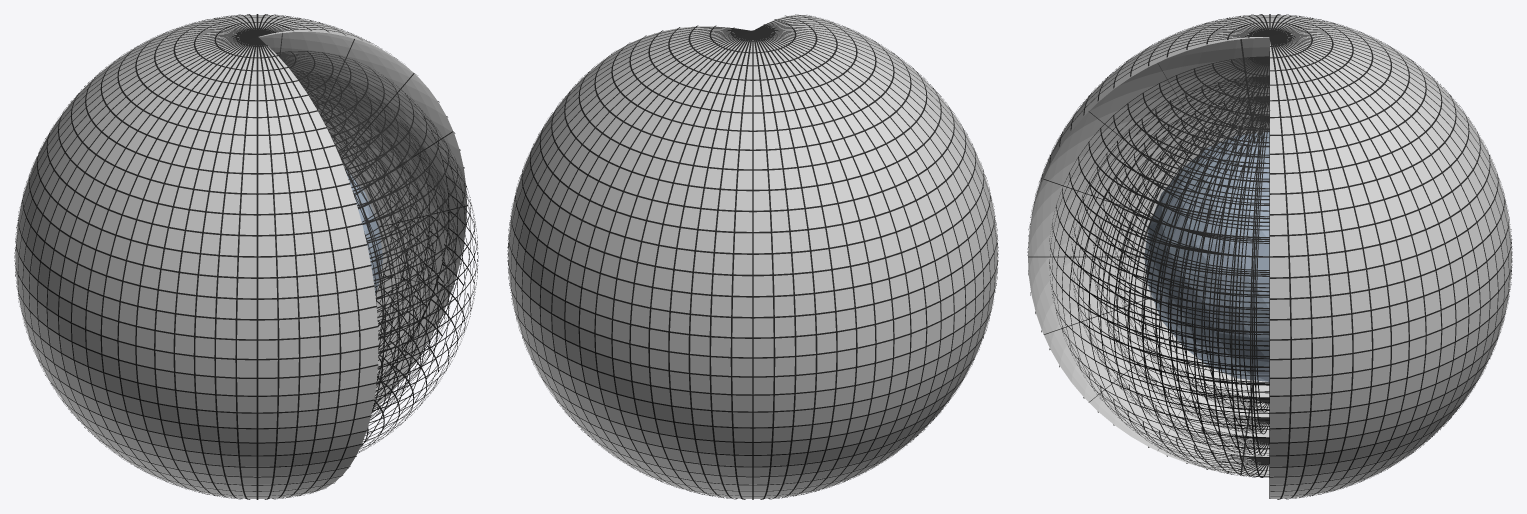
The model's file is LatLon_grid_3D_cutaway.glb.
The picture shows the model from 3 angles, left to right: view 1: azimuth 30°, elevation 25°; view 2: azimuth 150°, elevation 25°; view 3: azimuth 270°, elevation 25°; orthographic projection.
Bounding box in the file's own units: 1 × 1 × 1.
